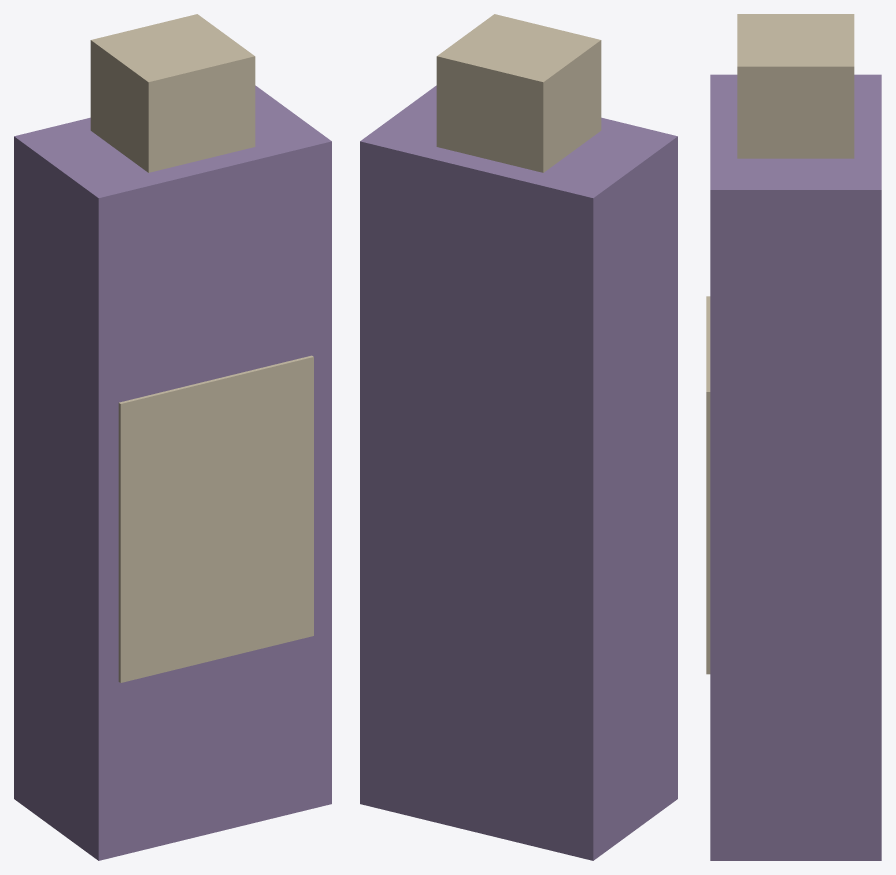
The model's file is shampoo-bottle-mint.glb.
3 renders of one model, left to right at view 1: azimuth 30°, elevation 25°; view 2: azimuth 150°, elevation 25°; view 3: azimuth 270°, elevation 25°, orthographic.
Parts seen in each view (by area): view 1: accent-lilac, paper; view 2: accent-lilac, paper; view 3: accent-lilac, paper.
Boxes of the visible parts, bbox=[...] form: accent-lilac: bbox=[14, 85, 331, 860]; paper: bbox=[90, 14, 313, 682]; accent-lilac: bbox=[360, 85, 677, 860]; paper: bbox=[436, 14, 601, 172]; accent-lilac: bbox=[710, 74, 881, 860]; paper: bbox=[706, 14, 854, 674].
Bounding box in the file's own units: 0.07 × 0.216 × 0.045.
